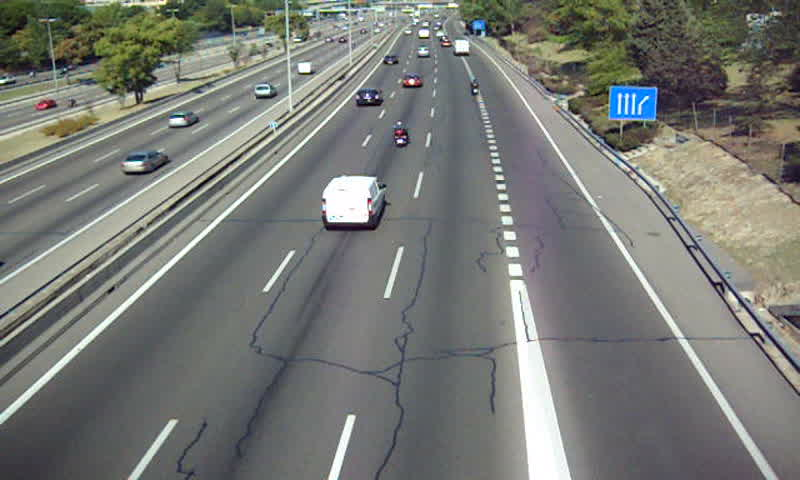car: (354, 85, 384, 107), (400, 74, 421, 89), (382, 53, 398, 66), (415, 45, 430, 58)
motorcycle: (392, 120, 409, 148), (469, 78, 479, 98)
van: (321, 175, 387, 232), (454, 38, 471, 57)
